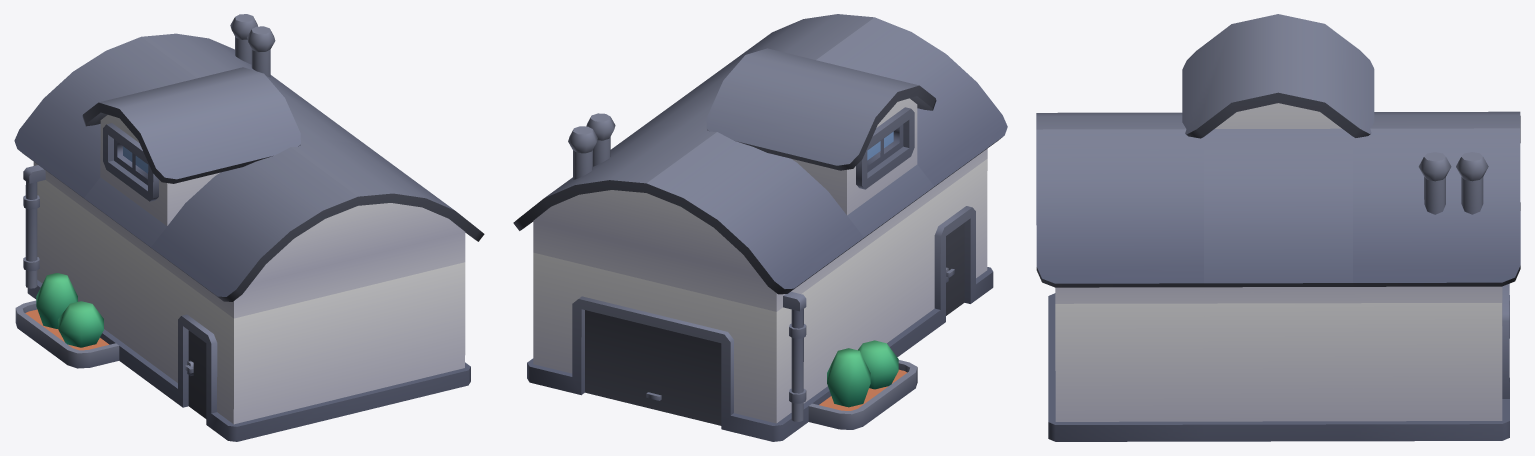
The model's file is building-j_lev1.glb.
The picture shows the model from 3 angles, left to right: view 1: azimuth 30°, elevation 25°; view 2: azimuth 150°, elevation 25°; view 3: azimuth 270°, elevation 25°; orthographic projection. The views are drawn at different scales.
Visible parts, largest first — view 1: building-j_lev1; view 2: building-j_lev1; view 3: building-j_lev1.
Part boxes in pixels (left/top/right/bottom): building-j_lev1: left=14, top=14, right=484, bottom=441; building-j_lev1: left=513, top=14, right=1007, bottom=441; building-j_lev1: left=1036, top=14, right=1520, bottom=441.
Size of the model in its own units: 1.03 by 0.8627 by 1.3.
1 material, 1 textured.
